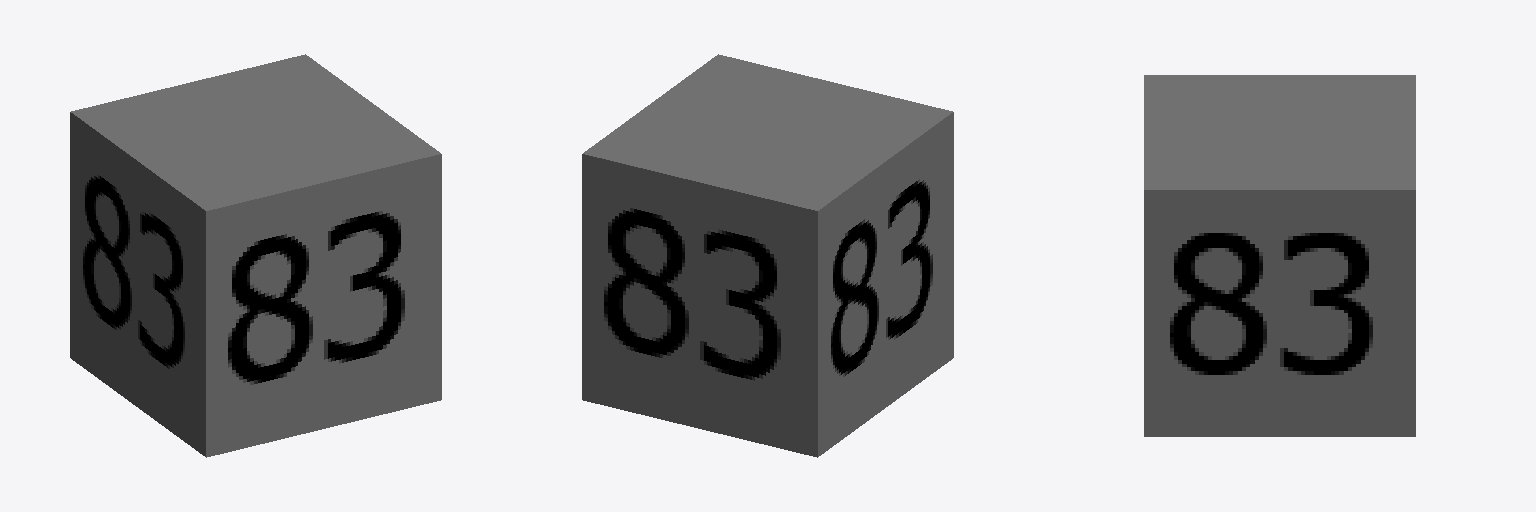
3 renders of one model, left to right at view 1: azimuth 30°, elevation 25°; view 2: azimuth 150°, elevation 25°; view 3: azimuth 270°, elevation 25°, orthographic.
Size of the model in its own units: 1 by 1 by 1.
Materials: 1 (1 with a texture image).